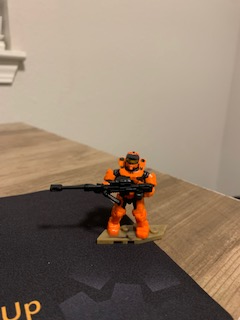spartan: (107, 148, 157, 239)
